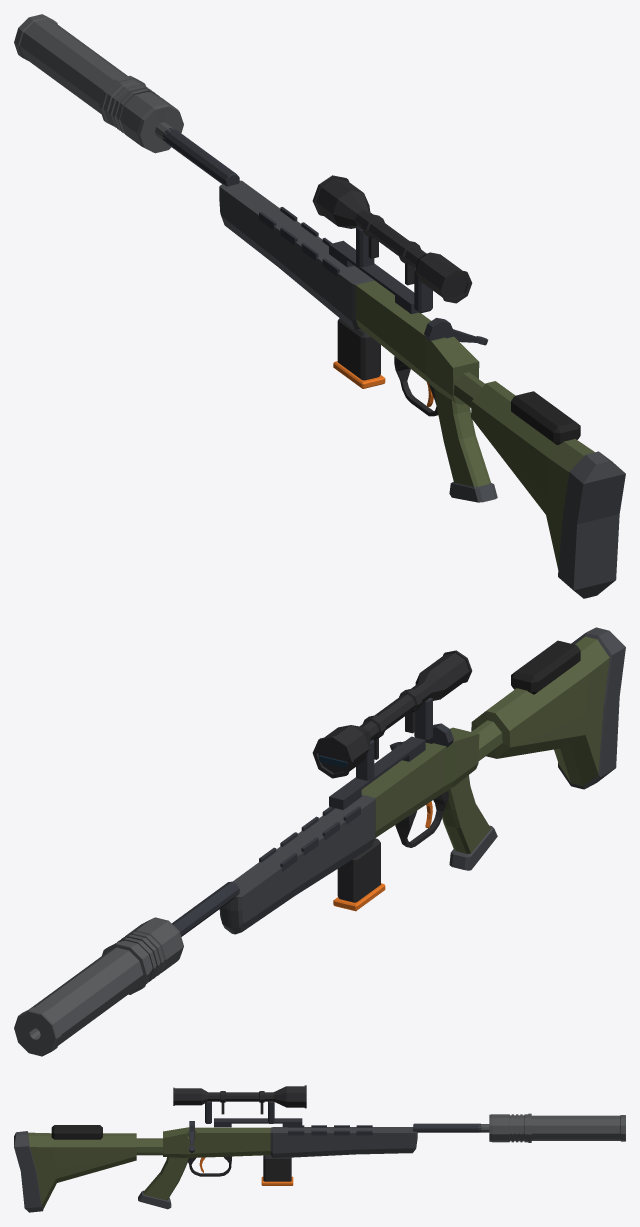
Rendered from marksman.glb.
The picture shows the model from 3 angles, top to bottom: view 1: azimuth 30°, elevation 25°; view 2: azimuth 150°, elevation 25°; view 3: azimuth 270°, elevation 25°; orthographic projection. The views are drawn at different scales.
Visible parts, largest first — view 1: marksman; view 2: marksman; view 3: marksman.
Boxes of the visible parts, left/top/right/bottom form: marksman: left=14, top=14, right=625, bottom=598; marksman: left=14, top=627, right=625, bottom=1056; marksman: left=14, top=1085, right=625, bottom=1212.
Bounding box in the file's own units: 0.0735 × 0.2257 × 1.
